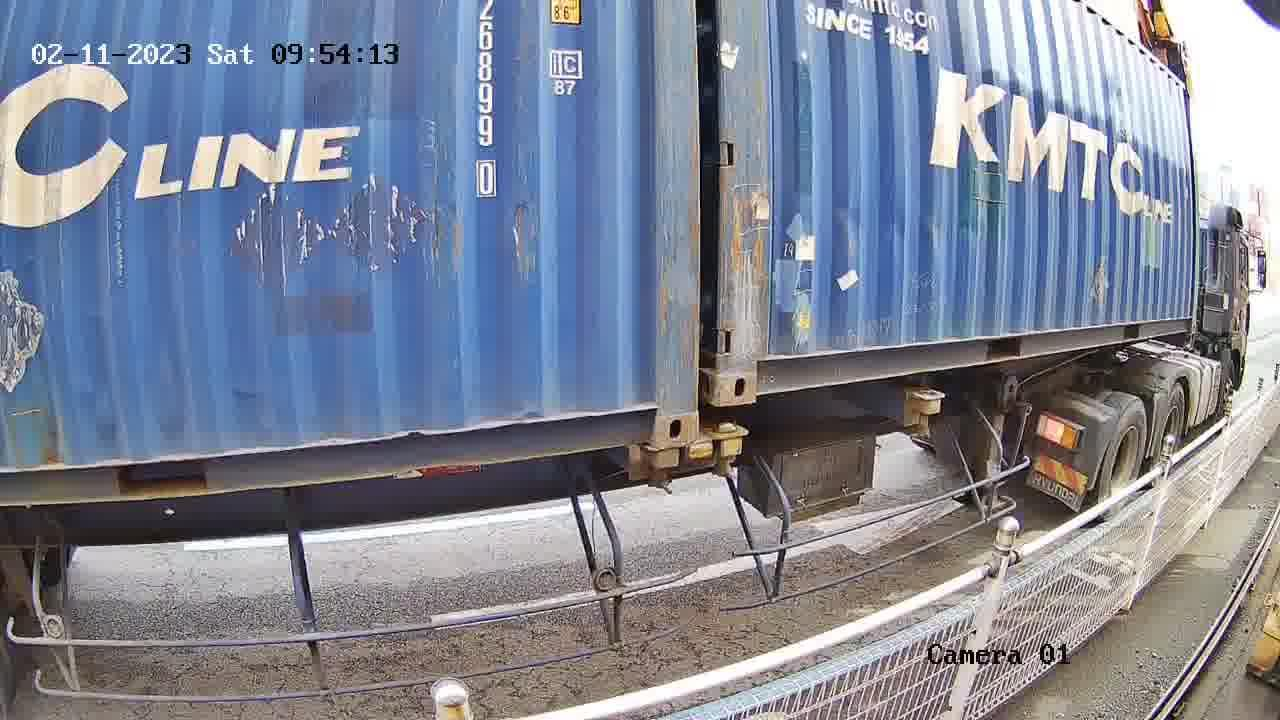Cone: (710, 423, 749, 481), (648, 449, 681, 495)
Hole_L: (719, 327, 783, 407)
Hole_R: (618, 367, 699, 455)
Tire: (1101, 401, 1147, 515), (1152, 385, 1188, 481)
